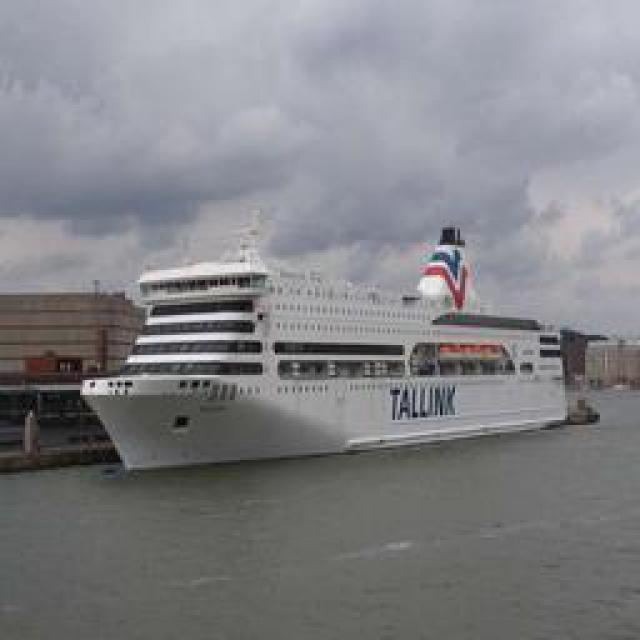Ship: (88, 221, 583, 469)
